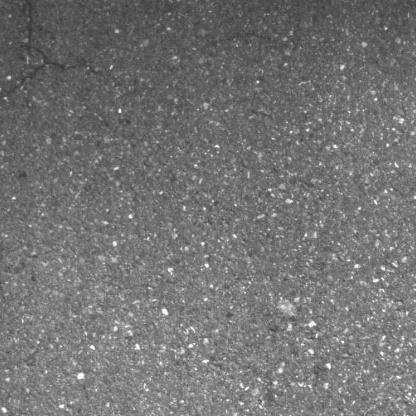Cracks: (1, 0, 109, 101)
